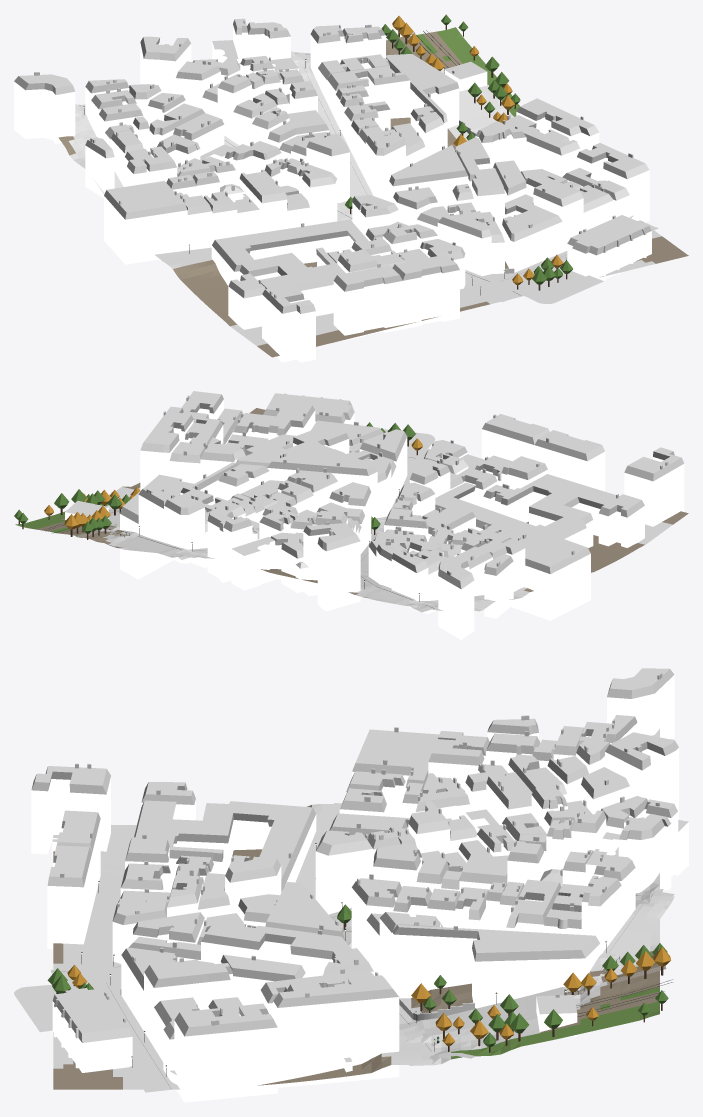
File: zone_E3.glb
3 renders of one model, top to bottom at view 1: azimuth 30°, elevation 25°; view 2: azimuth 150°, elevation 25°; view 3: azimuth 270°, elevation 25°, orthographic. The views are drawn at different scales.
Parts seen in each view (by area): view 1: zone_E3_batiments, zone_E3_terrain, zone_E3_sol_NOCOL, zone_E3_decor_NOCOL; view 2: zone_E3_batiments, zone_E3_terrain, zone_E3_sol_NOCOL, zone_E3_decor_NOCOL; view 3: zone_E3_batiments, zone_E3_terrain, zone_E3_sol_NOCOL, zone_E3_decor_NOCOL.
Boxes of the visible parts, <box> form: zone_E3_batiments: <box>14,18,651,362</box>; zone_E3_terrain: <box>58,27,688,357</box>; zone_E3_sol_NOCOL: <box>75,30,658,339</box>; zone_E3_decor_NOCOL: <box>83,14,572,295</box>; zone_E3_batiments: <box>65,391,684,639</box>; zone_E3_terrain: <box>15,408,688,611</box>; zone_E3_sol_NOCOL: <box>45,429,659,612</box>; zone_E3_decor_NOCOL: <box>14,422,422,601</box>; zone_E3_batiments: <box>31,668,688,1102</box>; zone_E3_terrain: <box>53,729,659,1089</box>; zone_E3_sol_NOCOL: <box>14,736,674,1092</box>; zone_E3_decor_NOCOL: <box>47,843,670,1076</box>.
Bounding box in the file's own units: 205 × 54.51 × 203.
